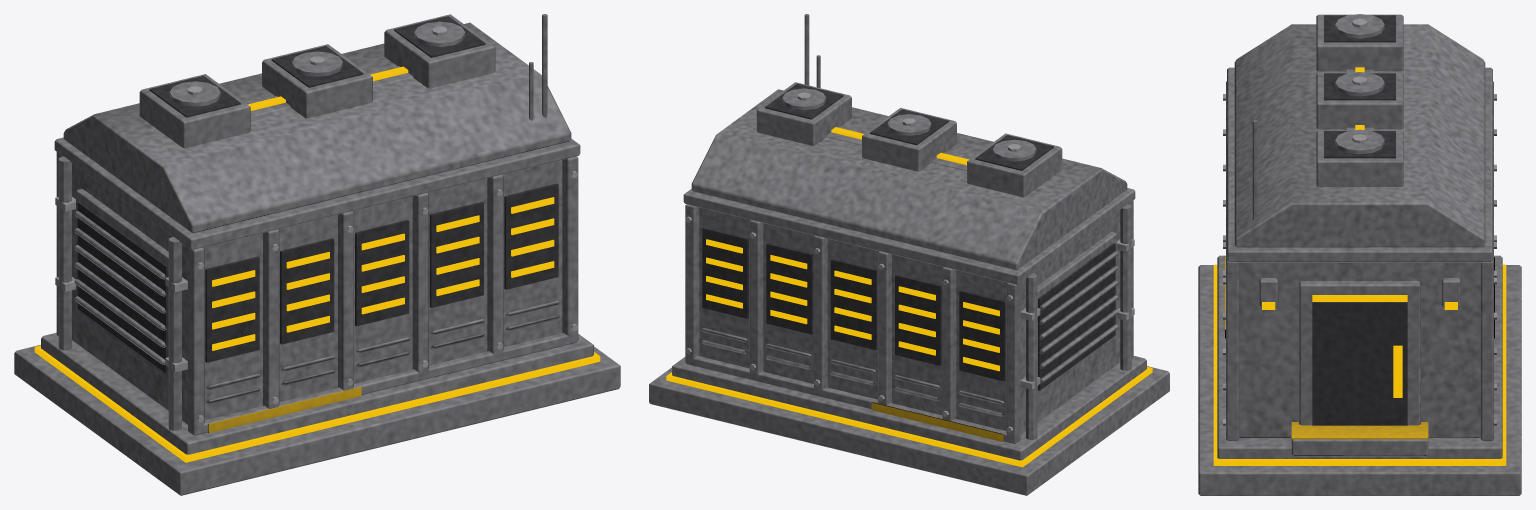
The model's file is nodexeus-hall.glb.
3 views of the same model, side by side, from view 1: azimuth 30°, elevation 25°; view 2: azimuth 150°, elevation 25°; view 3: azimuth 270°, elevation 25° (orthographic). The views are drawn at different scales.
Visible parts, largest first — view 1: hall; view 2: hall; view 3: hall.
Part boxes in pixels (x1=…): hall: x1=14, y1=14, x2=620, y2=495; hall: x1=649, y1=14, x2=1169, y2=495; hall: x1=1198, y1=14, x2=1521, y2=495.
Size of the model in its own units: 2.62 by 2.05 by 1.7.
Materials: 1 (1 with a texture image).
